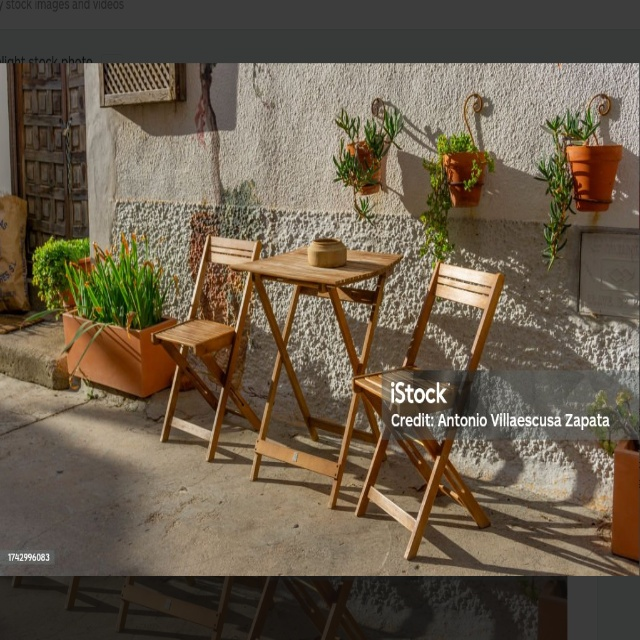obstacle: (353, 250, 505, 555), (240, 245, 397, 511), (150, 229, 254, 460), (58, 246, 174, 397), (537, 102, 622, 273), (332, 106, 404, 218), (424, 136, 490, 250), (24, 224, 81, 315)
